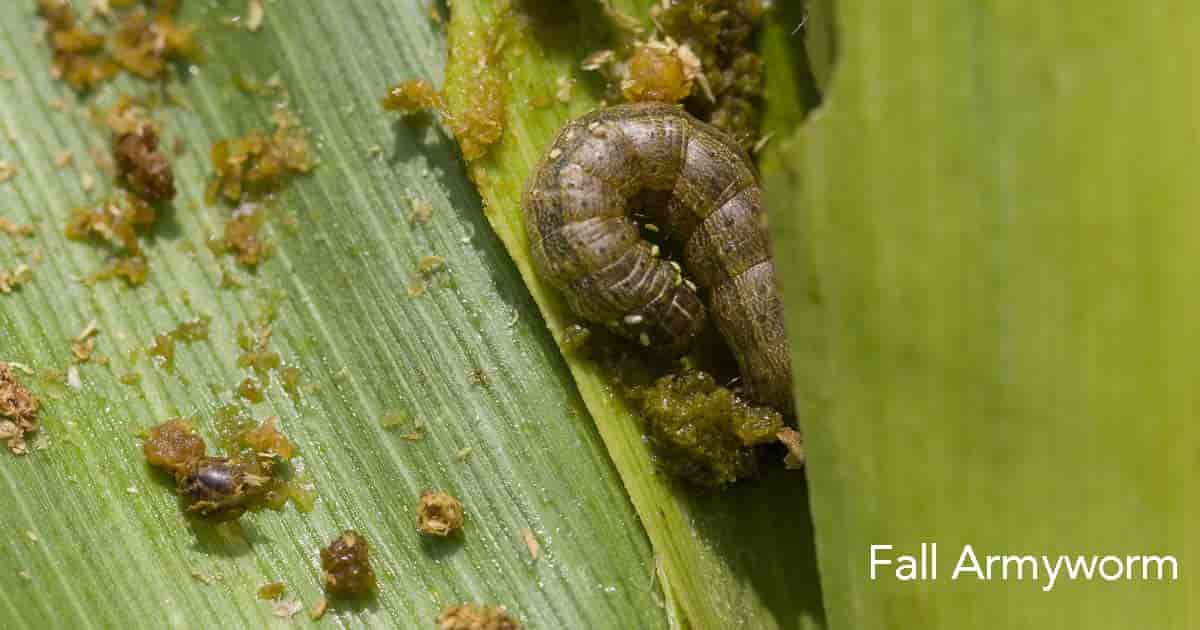Armyworm: (523, 90, 823, 429)
